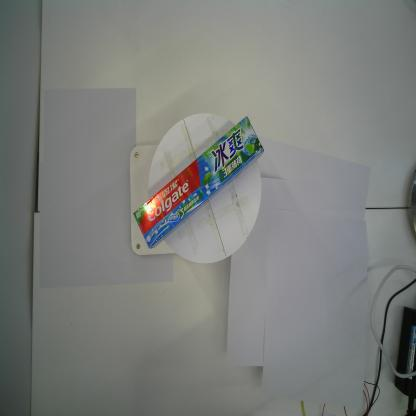Personal Hygiene: (133, 114, 264, 251)
